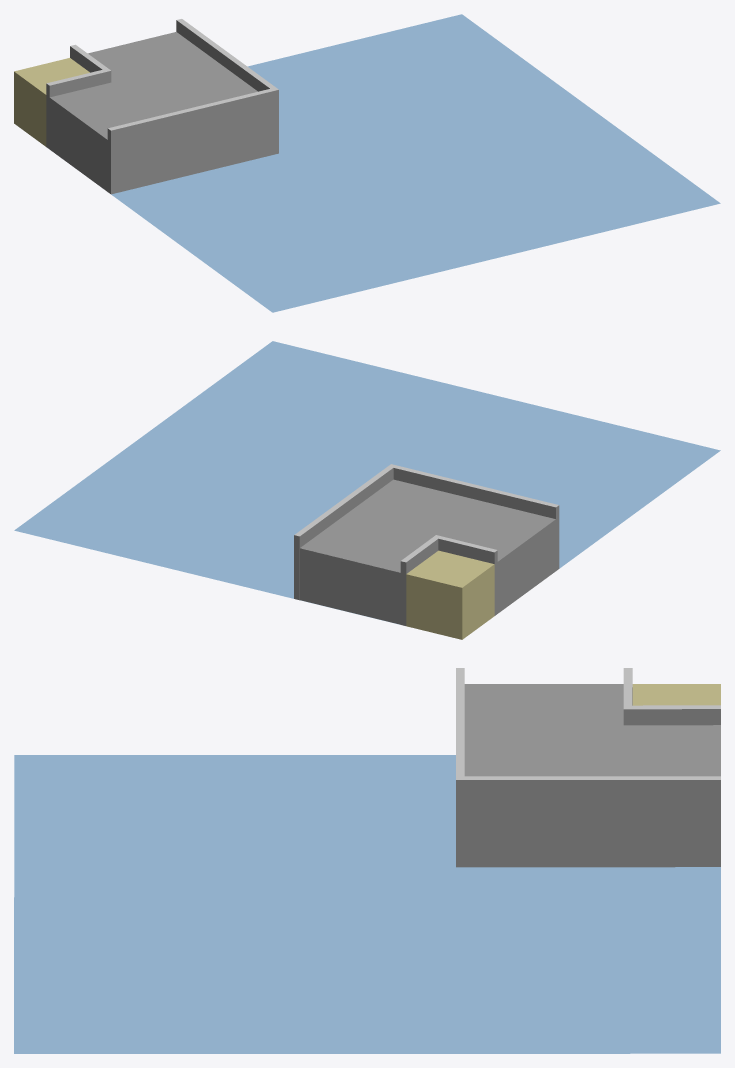
Rendered from port_tile_2x2_003.glb.
3 views of the same model, one above another, from view 1: azimuth 30°, elevation 25°; view 2: azimuth 150°, elevation 25°; view 3: azimuth 270°, elevation 25° (orthographic). The views are drawn at different scales.
Visible parts, largest first — view 1: port_tile_2x2_003; view 2: port_tile_2x2_003; view 3: port_tile_2x2_003.
Part boxes in pixels (bbox=[...]): port_tile_2x2_003: bbox=[14, 14, 720, 312]; port_tile_2x2_003: bbox=[14, 341, 720, 639]; port_tile_2x2_003: bbox=[14, 668, 720, 1053].
Bounding box in the file's own units: 16.01 × 2.18 × 16.01.
Materials: 1 (1 with a texture image).
